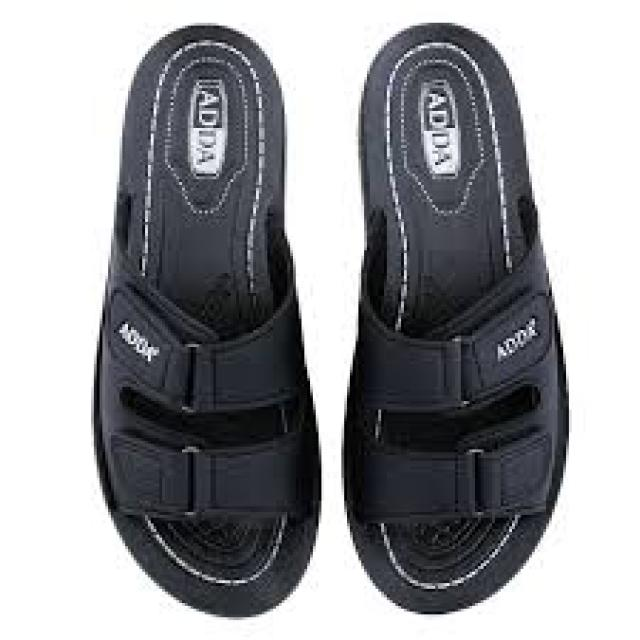shoe: (86, 19, 574, 628), (91, 23, 323, 622), (341, 24, 571, 615)
